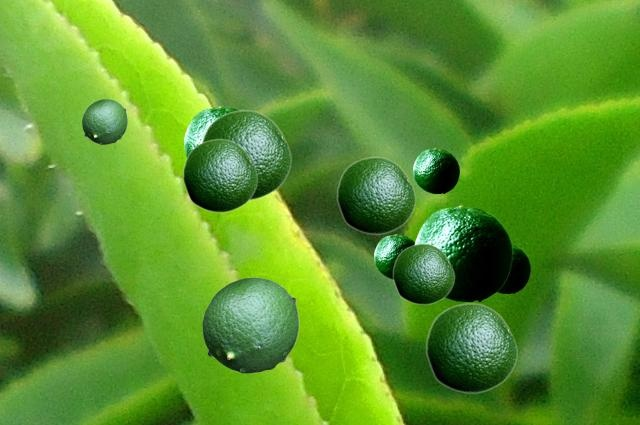calamansi: (414, 205, 511, 300), (202, 277, 298, 372), (425, 302, 517, 393), (201, 109, 291, 200), (336, 156, 415, 234), (182, 138, 257, 212), (392, 243, 454, 304), (184, 106, 238, 156), (413, 148, 458, 192), (82, 99, 126, 143), (374, 234, 414, 278), (498, 244, 529, 292)
